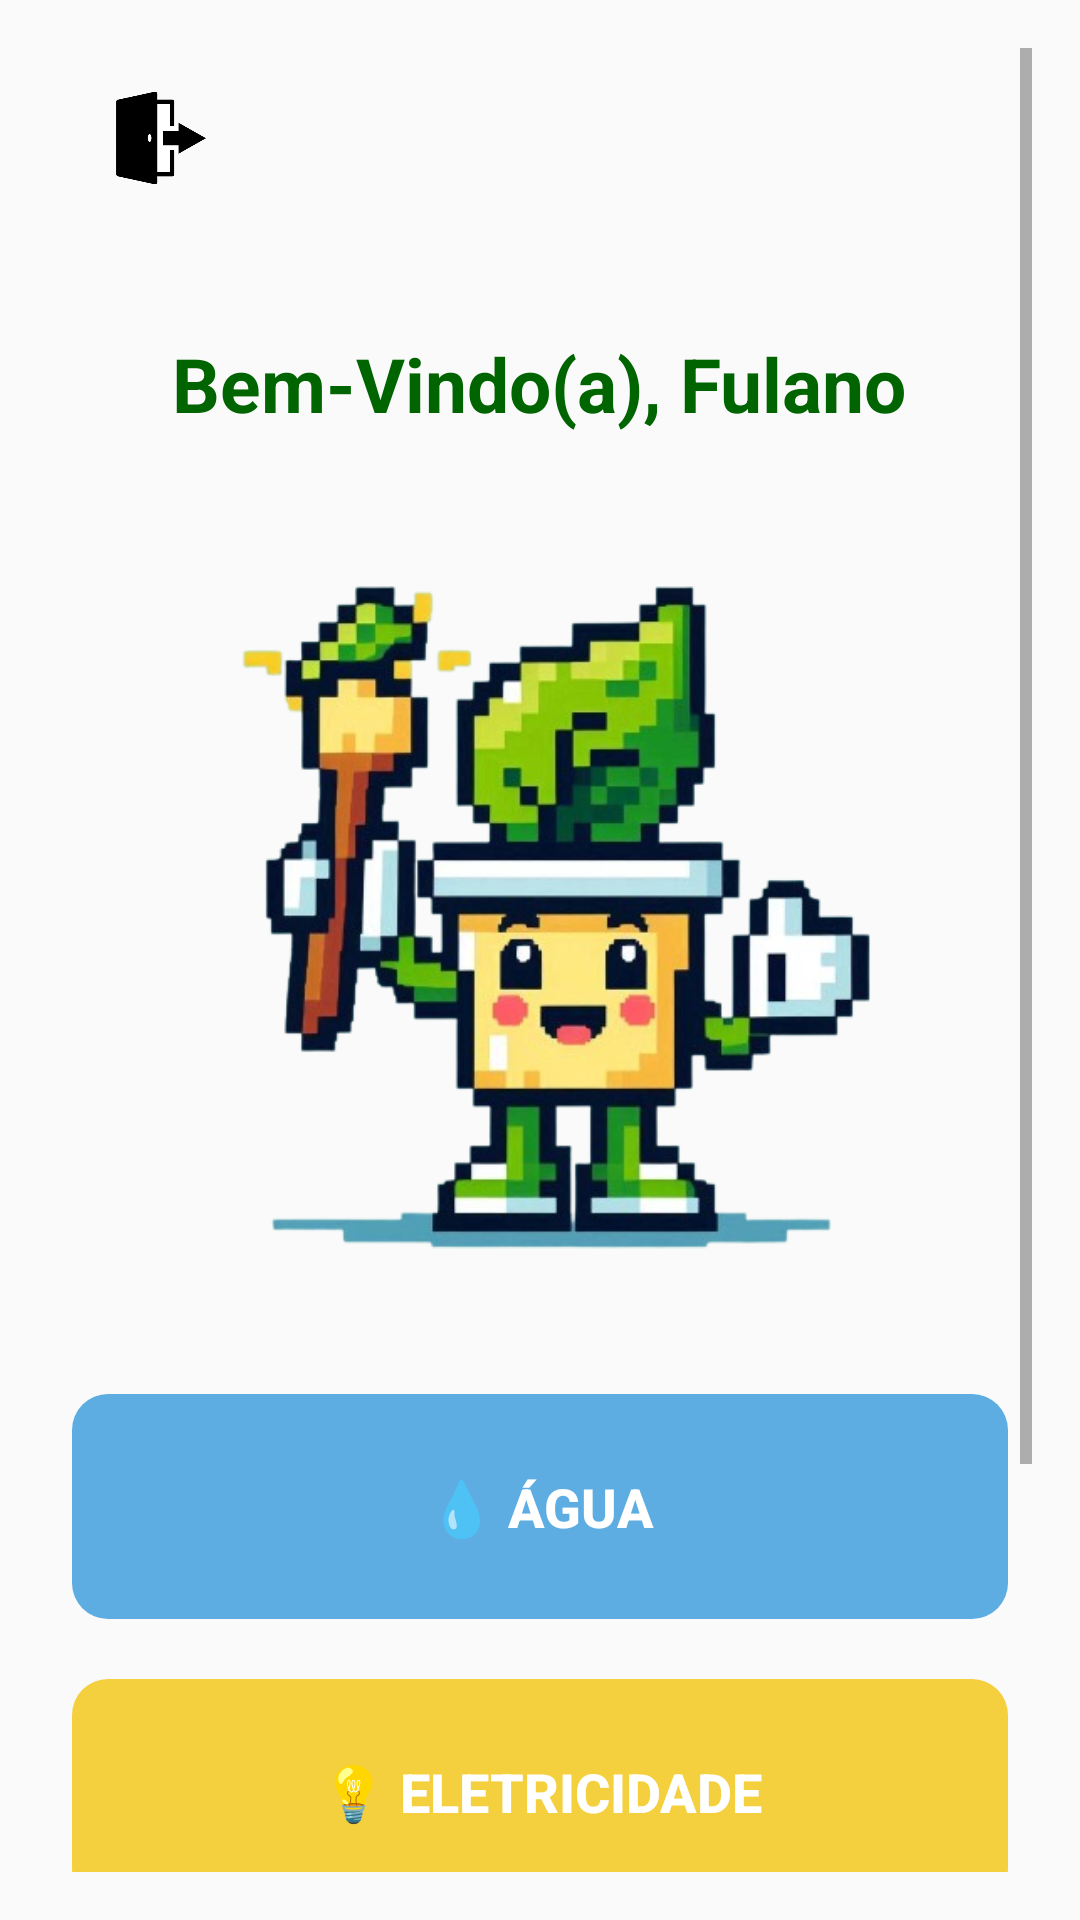

Where icons sit on this 1080*1920 app screen, as (x1, y1, x2, y2):
exit: (116, 92, 206, 184)
